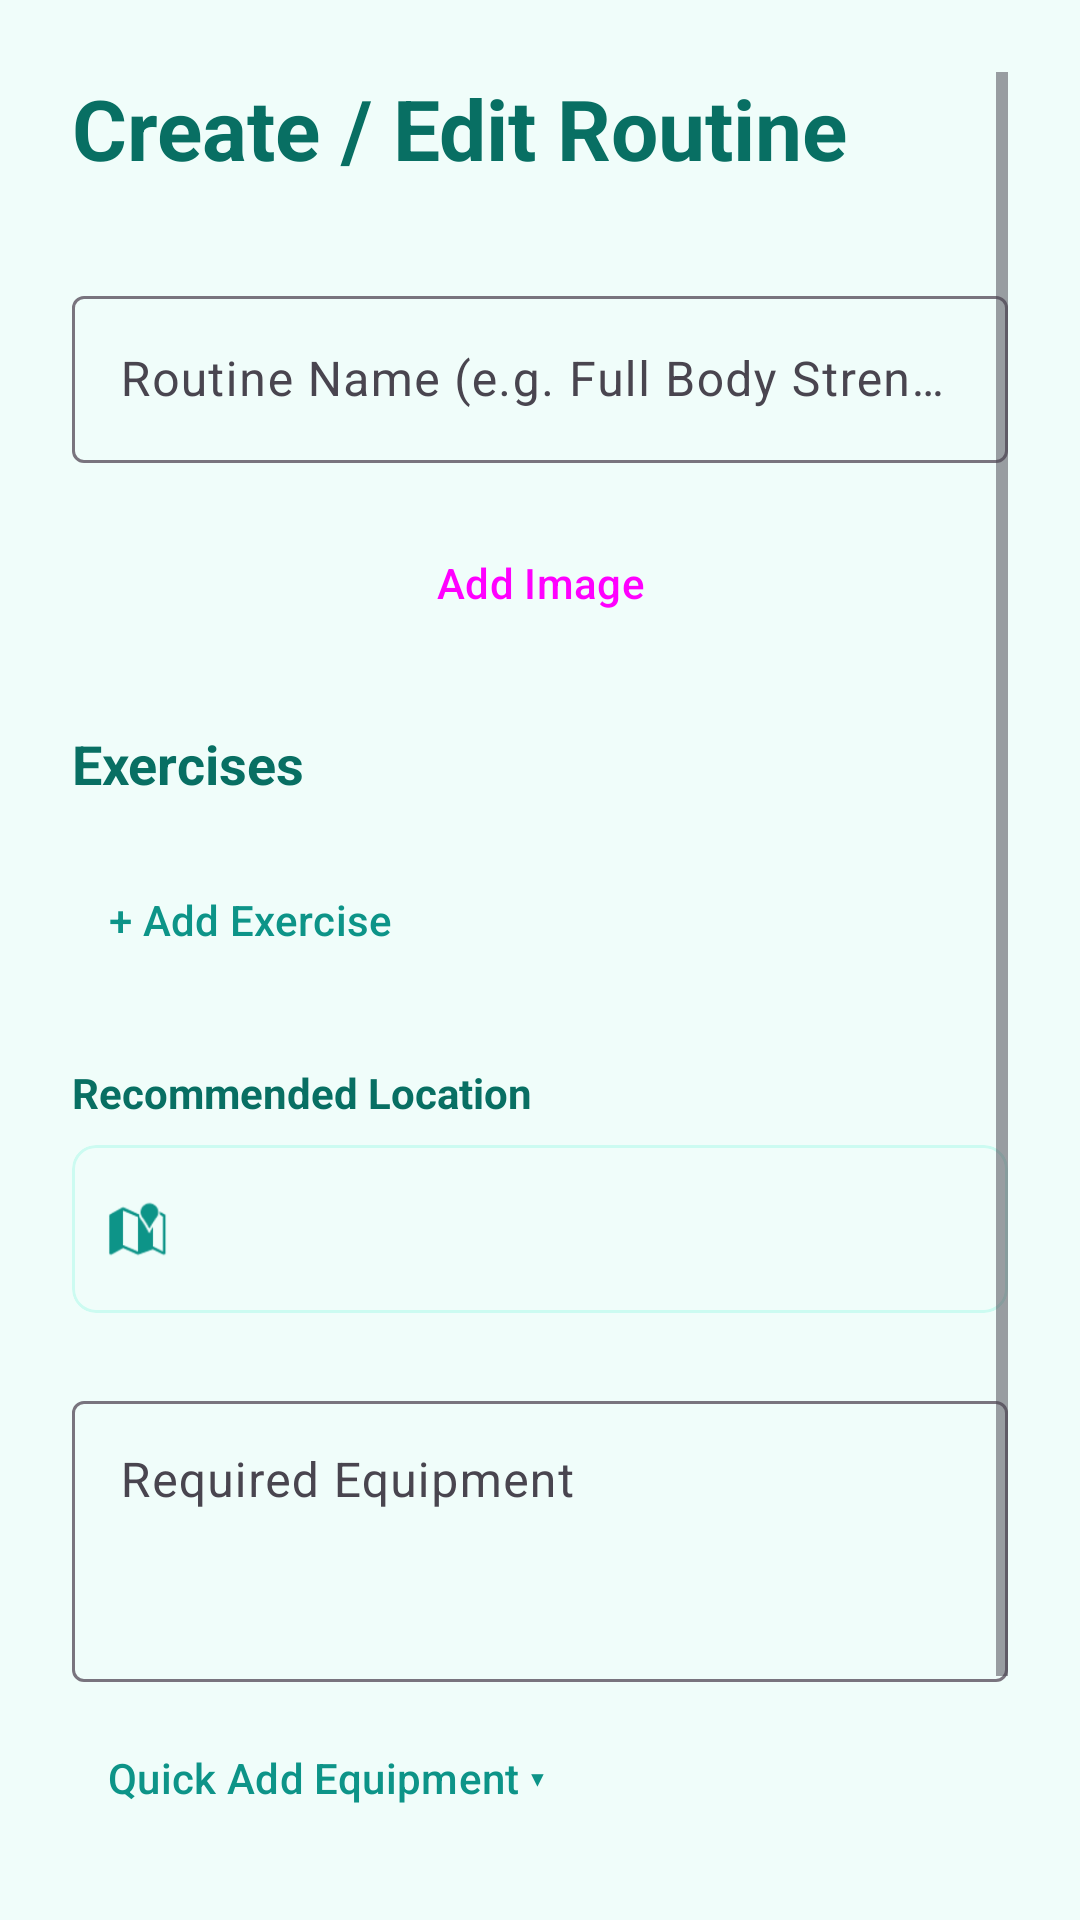

Icons on this 1080px×1920px Android screen, each with its box as [left=x1, top=y1, right=x2, bottom=y2]:
map: [left=109, top=1202, right=166, bottom=1255]
